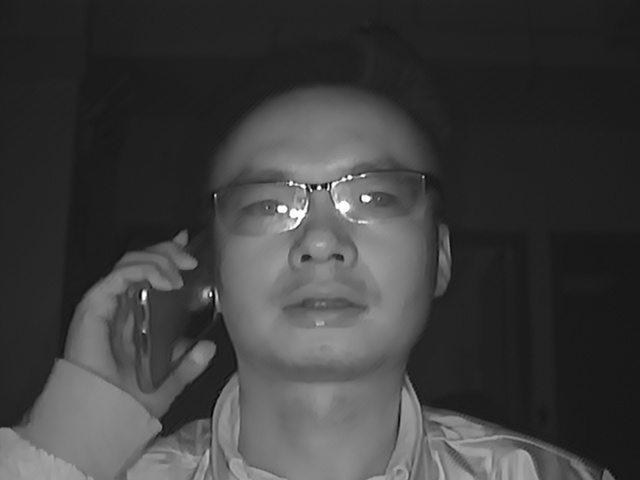hand: (64, 225, 197, 414)
